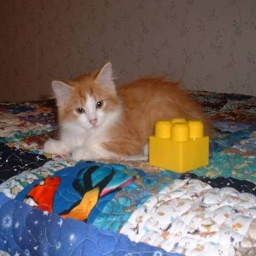cat: (36, 59, 224, 175)
